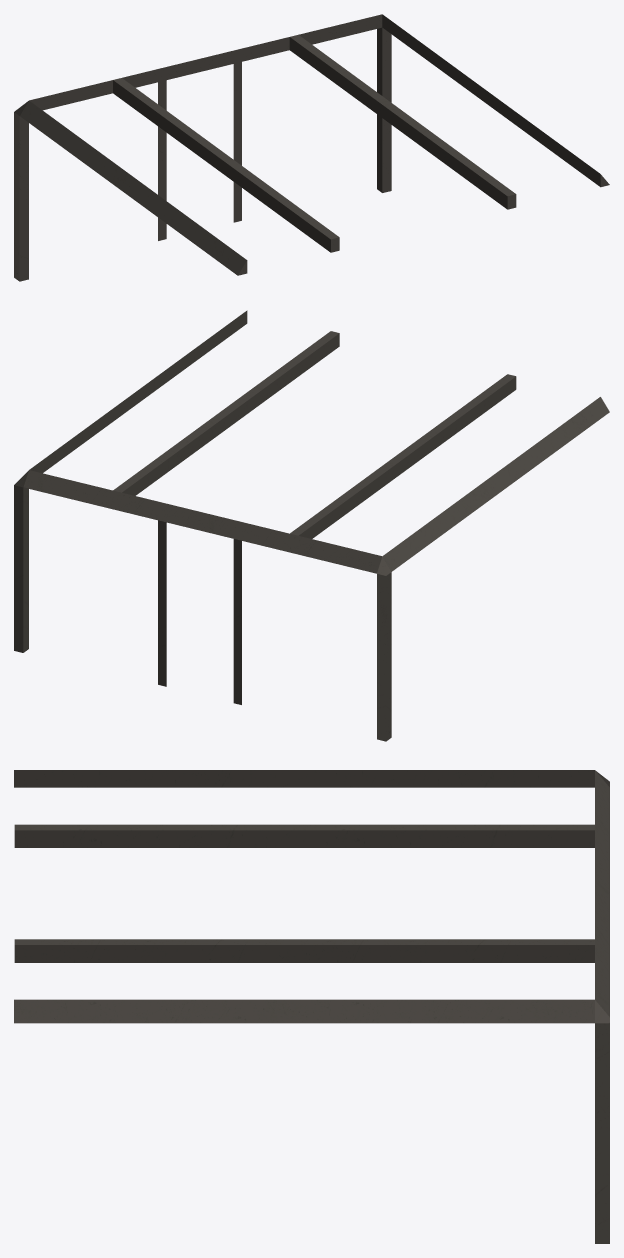
Rendered from LabroomMetalBeamFramework.glb.
3 renders of one model, top to bottom at view 1: azimuth 30°, elevation 25°; view 2: azimuth 150°, elevation 25°; view 3: azimuth 270°, elevation 25°, orthographic. The views are drawn at different scales.
Visible parts, largest first — view 1: Cube.004; view 2: Cube.004; view 3: Cube.004.
Part boxes in pixels (x1,y1,x2,y2): Cube.004: (14, 14, 609, 281); Cube.004: (14, 310, 609, 741); Cube.004: (14, 770, 609, 1243).
Bounding box in the file's own units: 61.13 × 28.09 × 63.69.
Materials: 1 (1 with a texture image).
